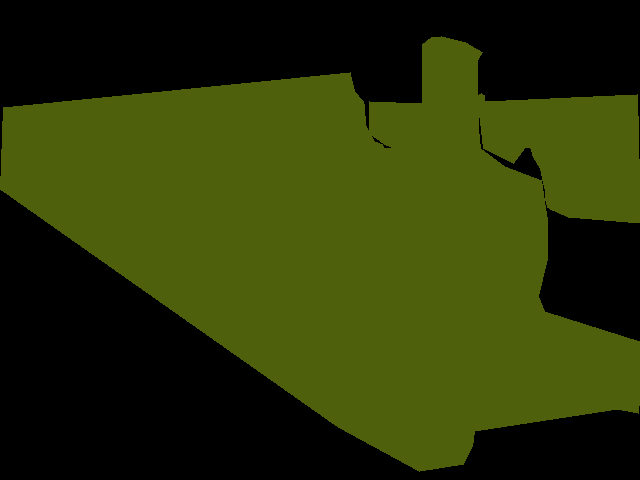Train: (0, 36, 640, 471), (369, 93, 640, 223)
